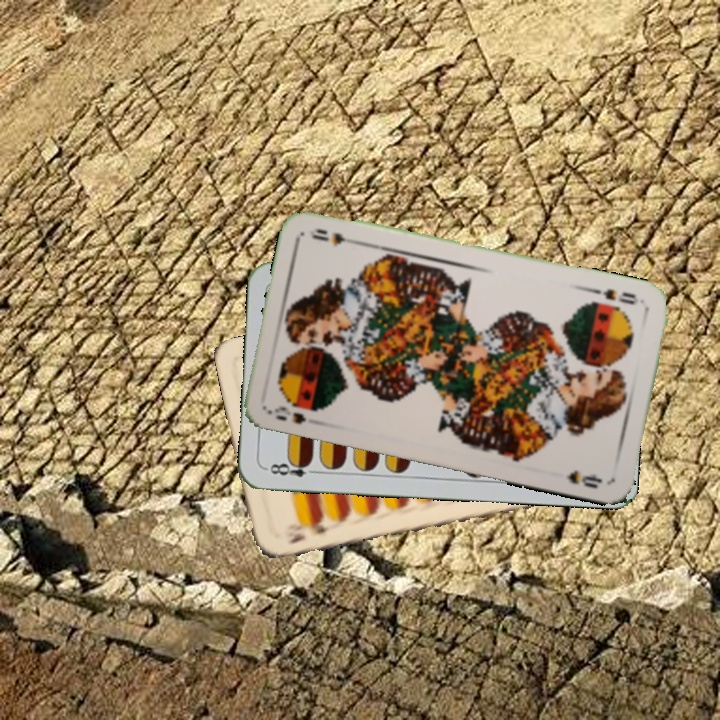E10: (284, 516, 332, 547)
E8: (262, 456, 322, 480)
SO: (588, 284, 641, 307), (265, 402, 309, 427)
